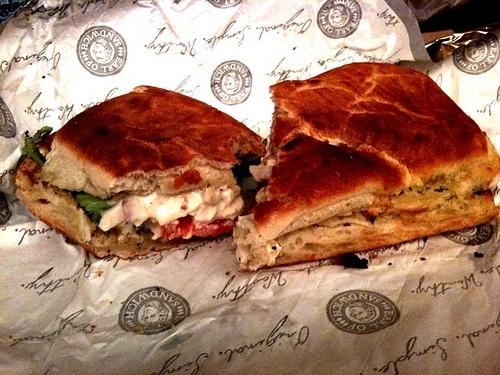tomato: (162, 214, 236, 241)
